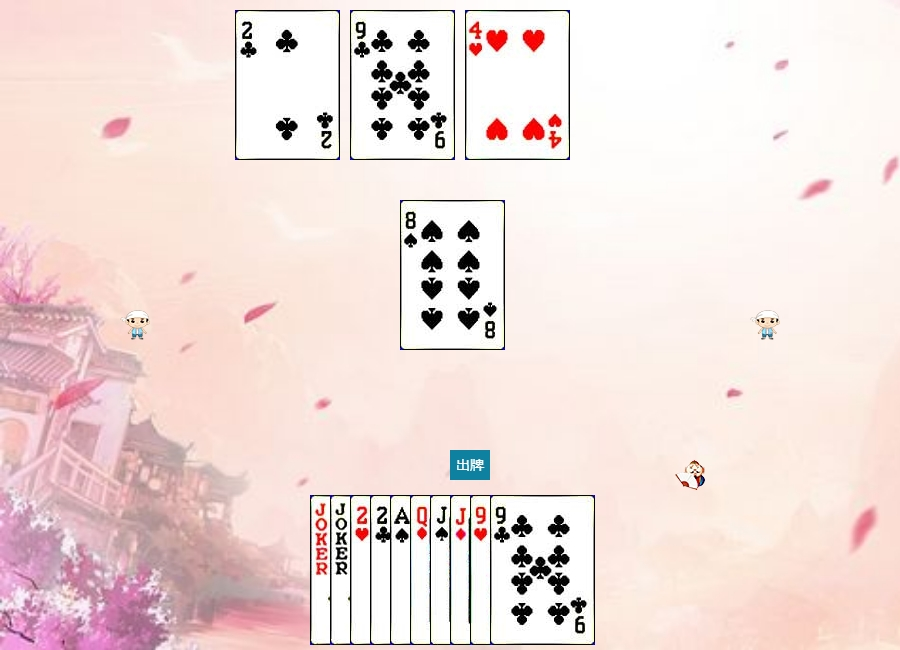11~1: (450, 495, 555, 645)
11~4: (430, 495, 535, 645)
12~1: (410, 495, 515, 645)
14~4: (390, 495, 495, 645)
15~2: (235, 10, 340, 160), (370, 495, 475, 645)
15~3: (350, 495, 455, 645)
17~3: (330, 495, 435, 645)
18~4: (310, 495, 415, 645)
4~3: (465, 10, 570, 160)
8~4: (400, 200, 505, 350)
9~2: (350, 10, 455, 160), (490, 495, 595, 645)
9~3: (470, 495, 575, 645)
